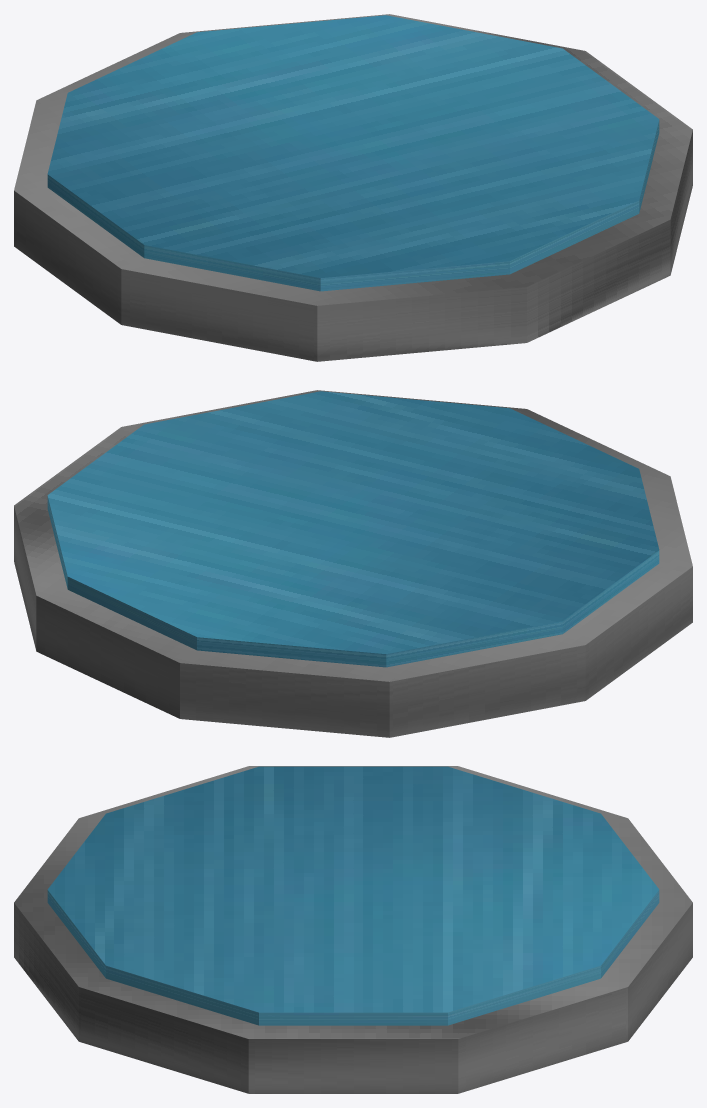
File: pickup_base_blue.glb
The picture shows the model from 3 angles, top to bottom: view 1: azimuth 30°, elevation 25°; view 2: azimuth 150°, elevation 25°; view 3: azimuth 270°, elevation 25°; orthographic projection. The views are drawn at different scales.
Parts seen in each view (by area): view 1: Blue Inner, Outer; view 2: Blue Inner, Outer; view 3: Blue Inner, Outer.
Part boxes in pixels (<box>): Blue Inner: <box>47,15,659,291</box>; Outer: <box>14,14,692,361</box>; Blue Inner: <box>47,391,659,667</box>; Outer: <box>14,390,692,737</box>; Blue Inner: <box>47,766,659,1025</box>; Outer: <box>14,766,692,1093</box>.
Size of the model in its own units: 1.9 by 0.2202 by 2.
3 materials, 3 textured.
